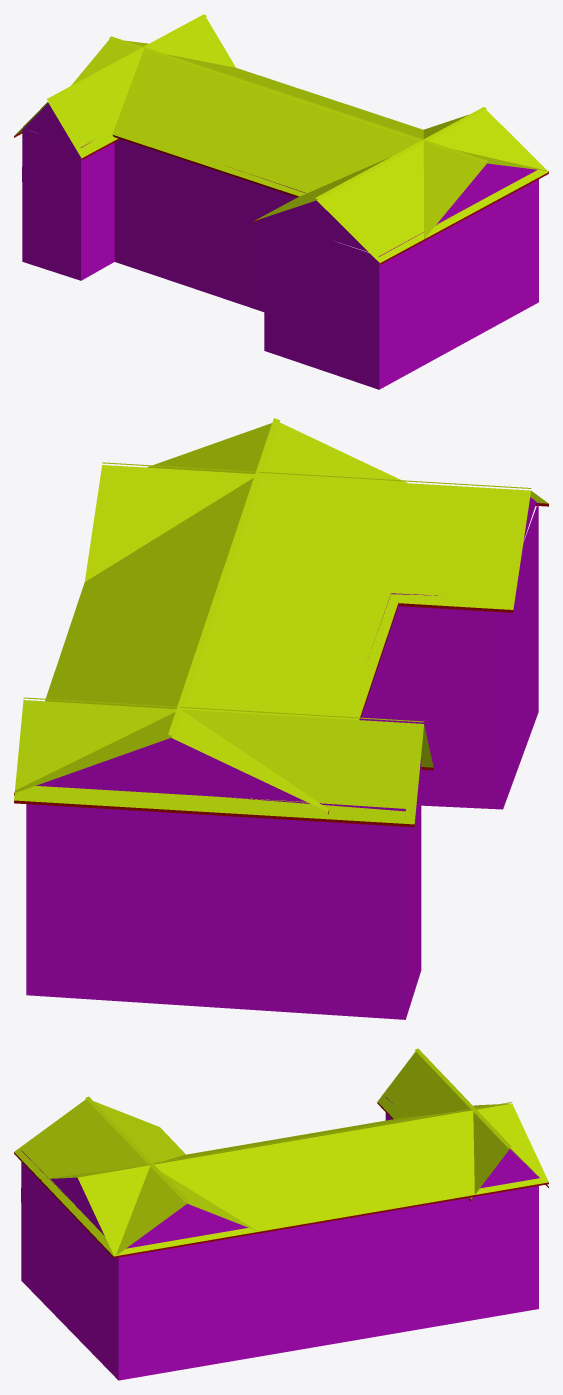
The model's file is sjs_71.glb.
3 views of the same model, one above another, from view 1: azimuth 30°, elevation 25°; view 2: azimuth 150°, elevation 25°; view 3: azimuth 270°, elevation 25° (orthographic). The views are drawn at different scales.
Parts seen in each view (by area): view 1: sjs_71; view 2: sjs_71; view 3: sjs_71.
Part boxes in pixels (bbox=[...]): sjs_71: bbox=[14, 14, 548, 389]; sjs_71: bbox=[14, 418, 548, 1019]; sjs_71: bbox=[14, 1048, 548, 1380].
Size of the model in its own units: 24.57 by 11.31 by 32.25.
